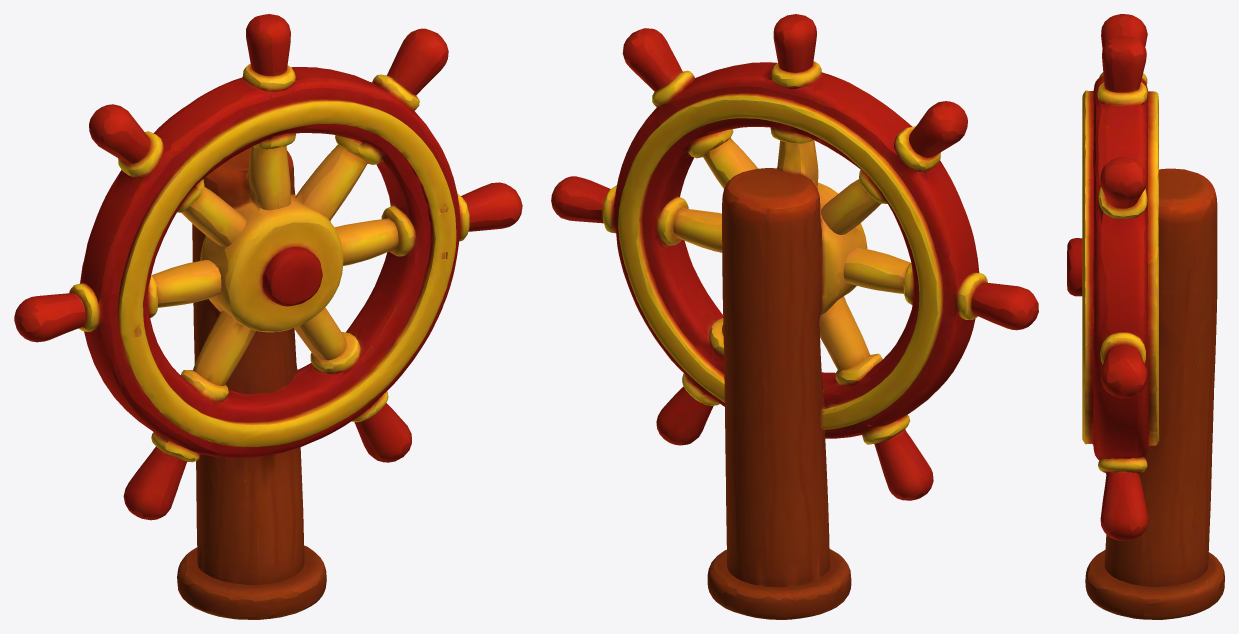
Rendered from x-wheel.glb.
3 renders of one model, left to right at view 1: azimuth 30°, elevation 25°; view 2: azimuth 150°, elevation 25°; view 3: azimuth 270°, elevation 25°, orthographic. The views are drawn at different scales.
Visible parts, largest first — view 1: geometry_0; view 2: geometry_0; view 3: geometry_0.
Boxes of the visible parts, x1=… form: geometry_0: x1=14, y1=14, x2=522, y2=619; geometry_0: x1=551, y1=14, x2=1038, y2=619; geometry_0: x1=1067, y1=14, x2=1224, y2=619.
Size of the model in its own units: 0.4025 by 0.45 by 0.1162.
Materials: 1 (1 with a texture image).
